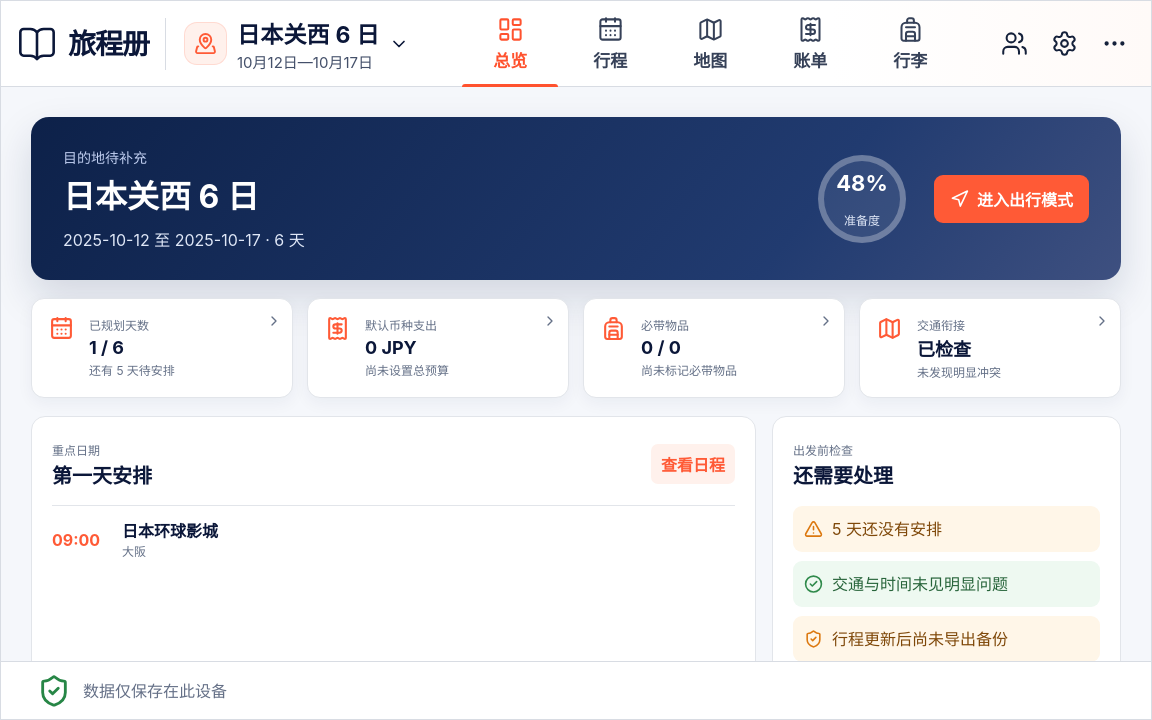
Test: App › merges a multi-day arrangement instead of rendering covered days as empty
Click the button named "管理安排".
click(1114, 44)  # box 1093,22 -> 1135,64
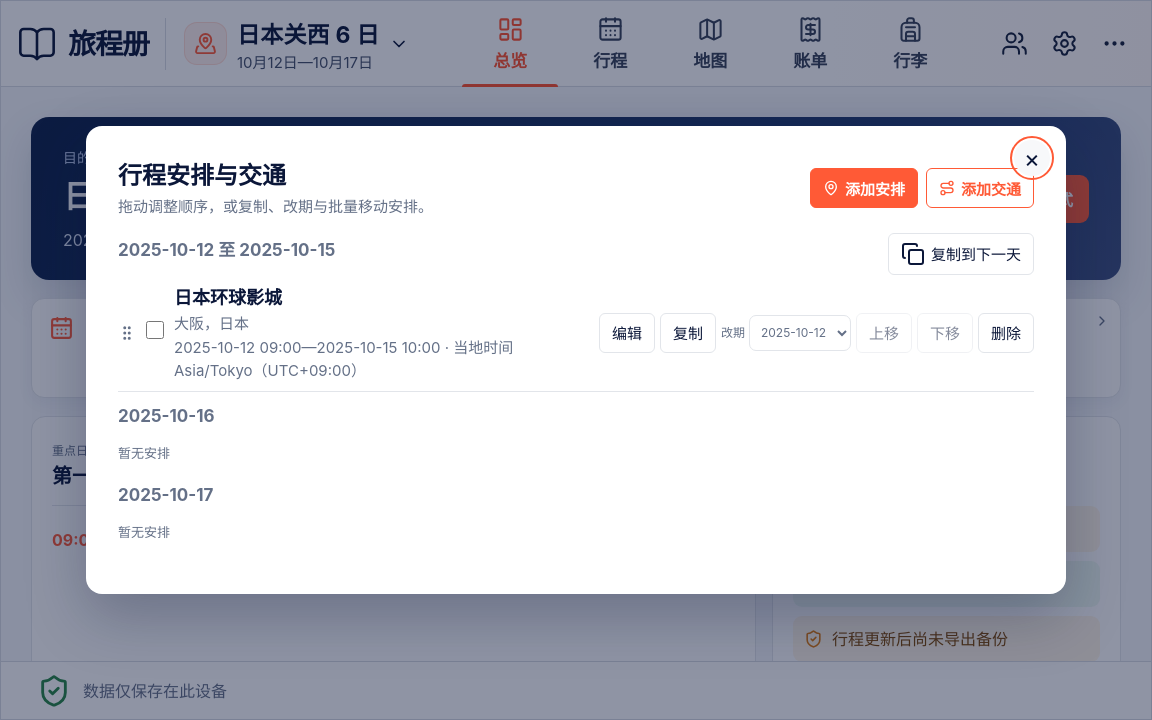
Expected: the heading "2025-10-12 至 2025-10-15" is shown, 118,238 -> 335,263
Expected: the text "2025-10-12 09:00—2025-10-15 10:00" is shown, 174,338 -> 441,357
Expected: the text "暂无安排" is shown 2 times, 118,444 -> 170,460; 118,524 -> 170,540
